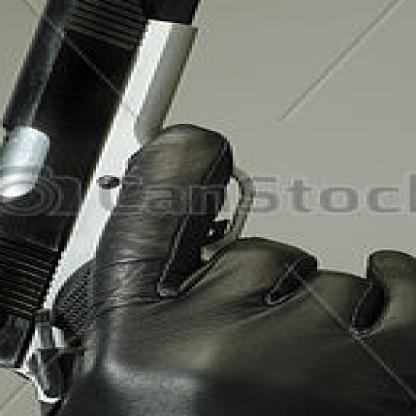gun: (0, 0, 291, 414)
